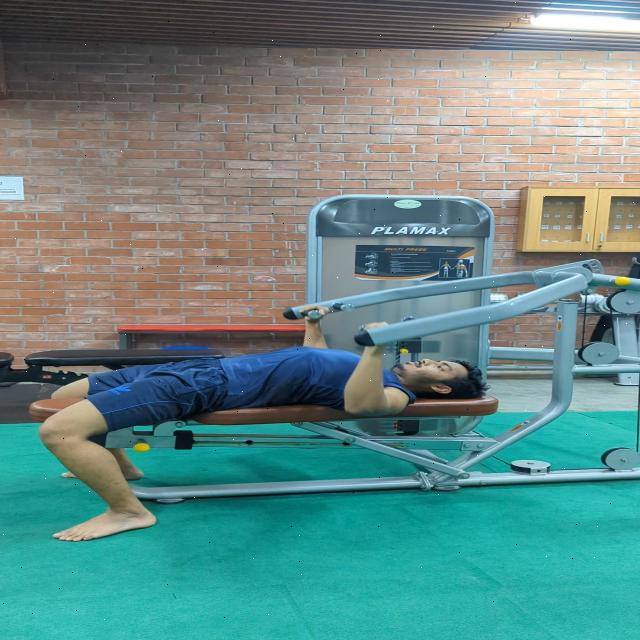Normal_BrenchPress: (31, 281, 512, 548)
